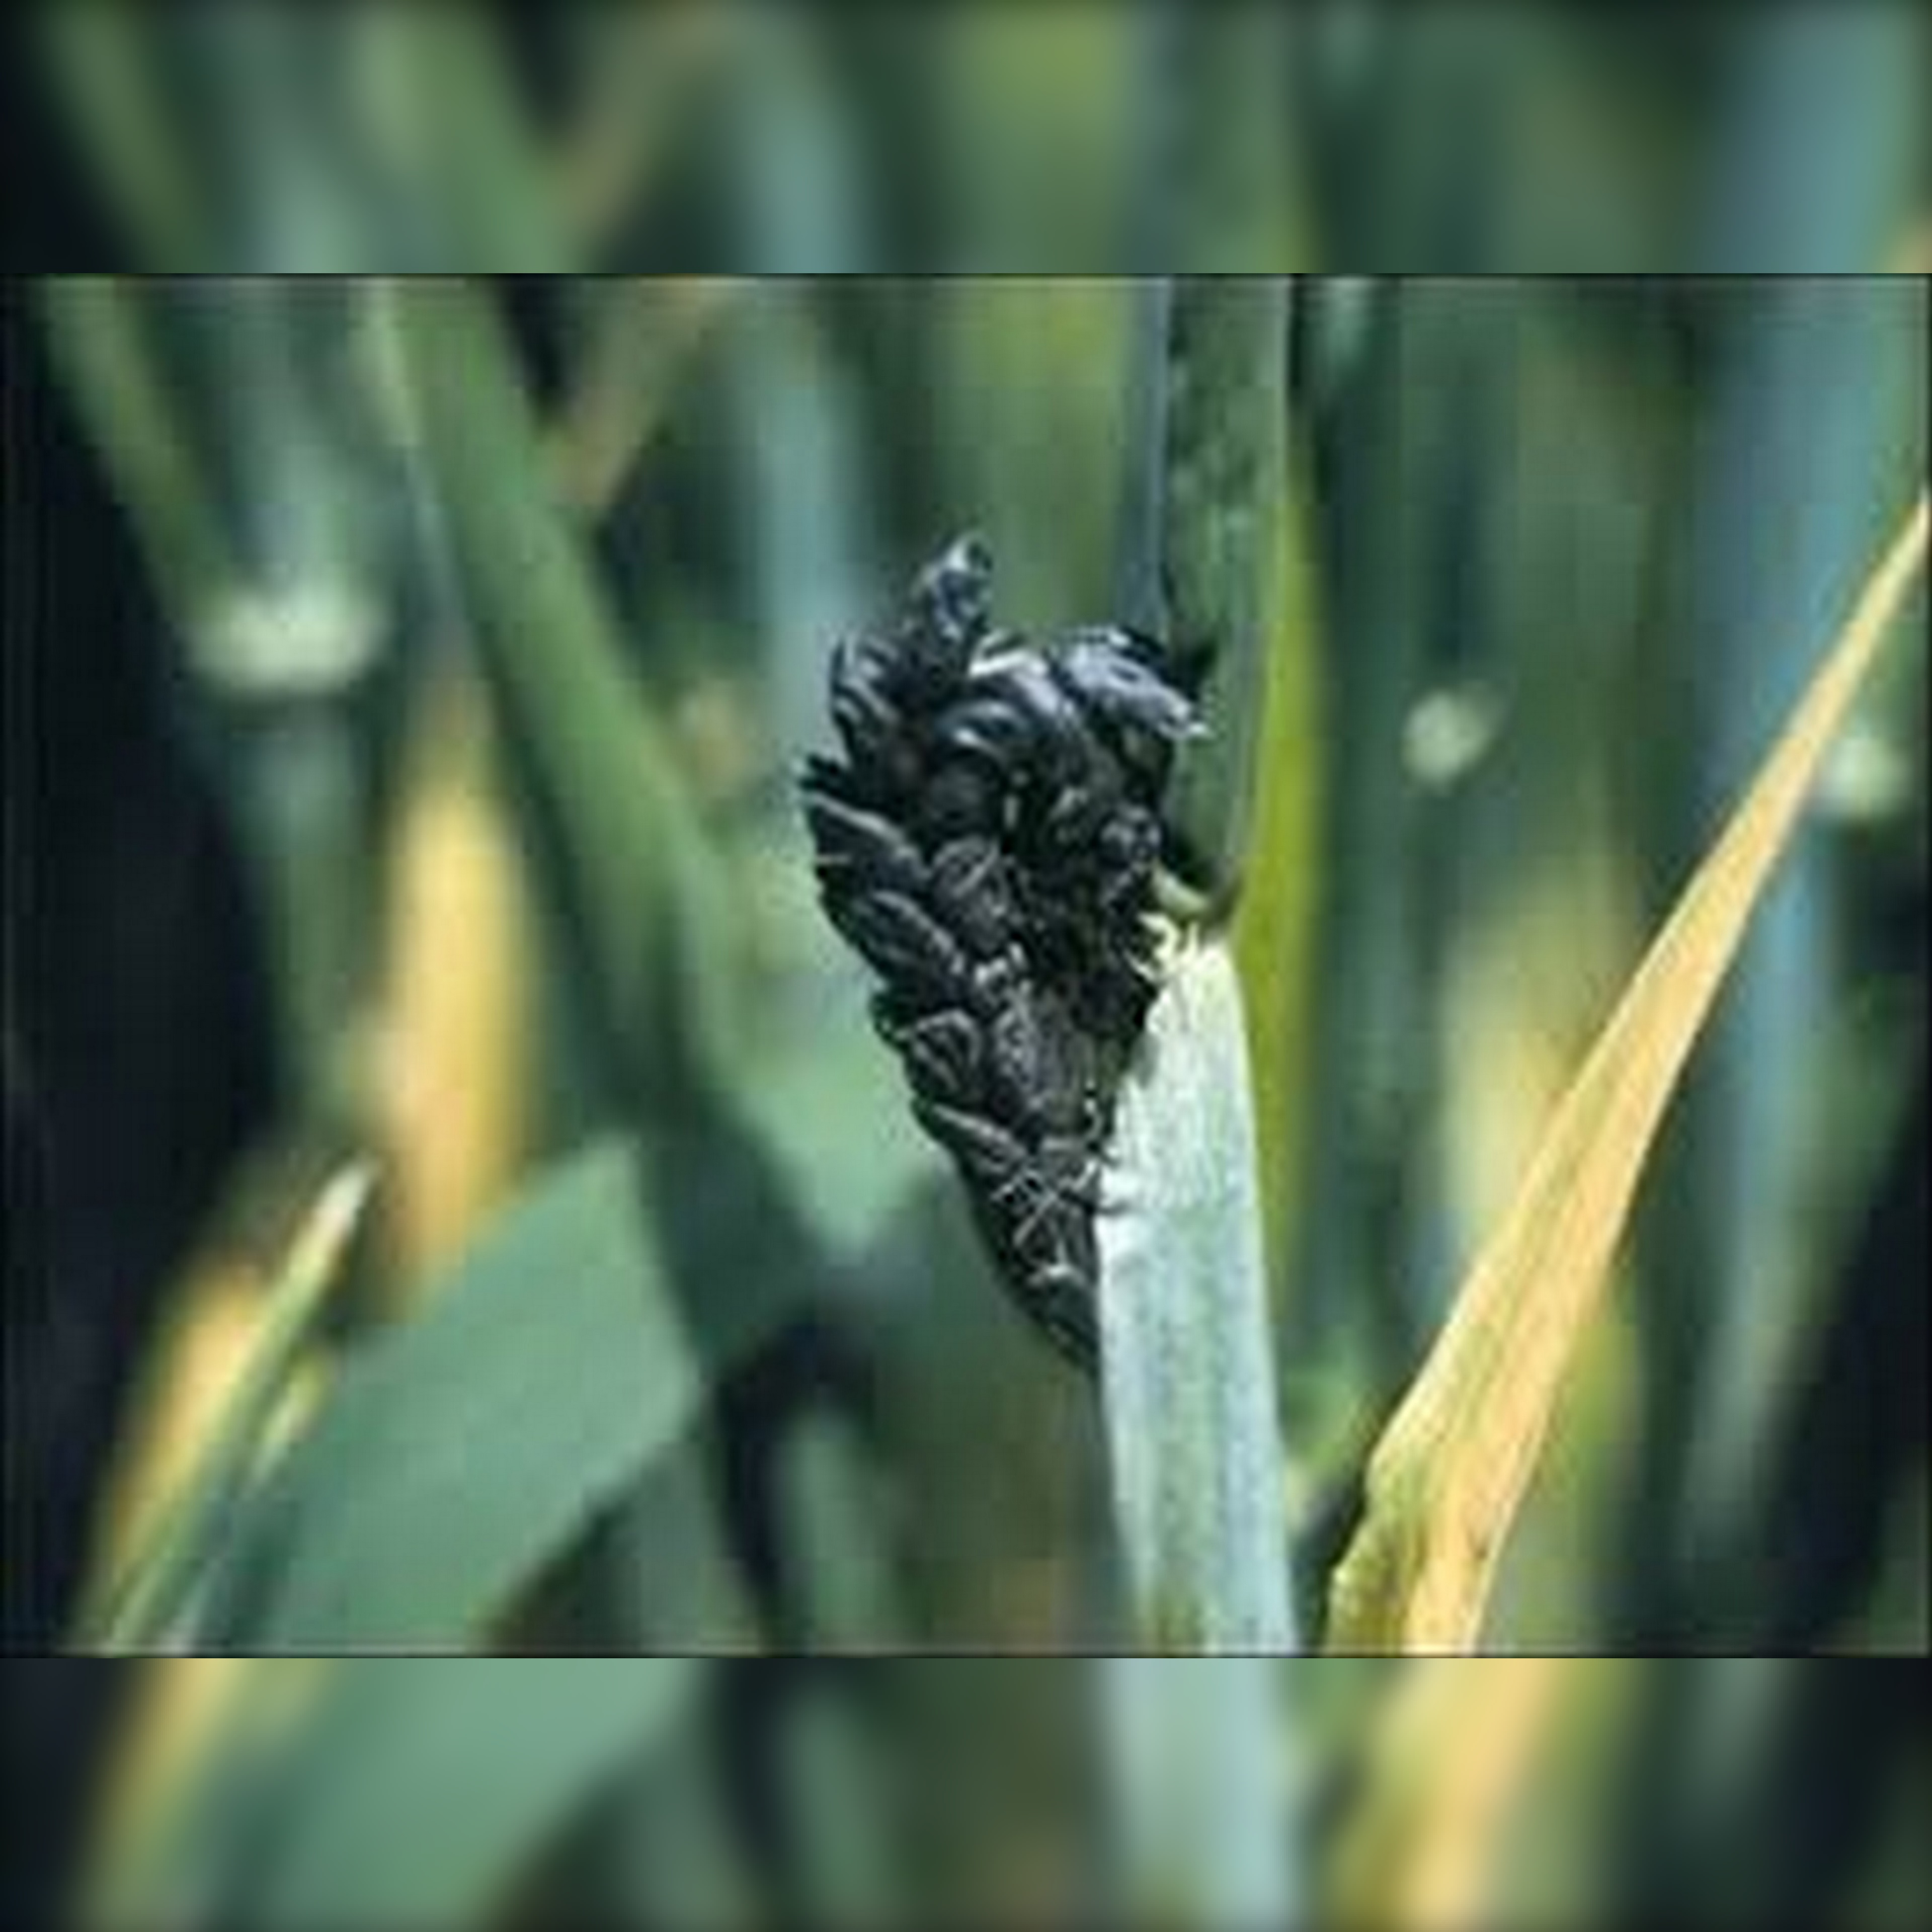Wheat Loose Smut: (715, 495, 1279, 1343)
